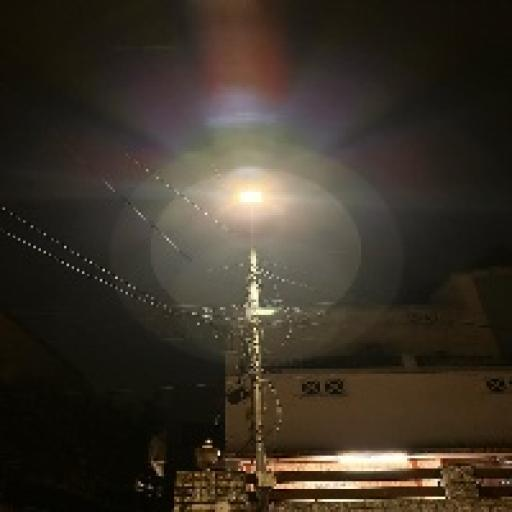Working: (226, 178, 272, 218)
